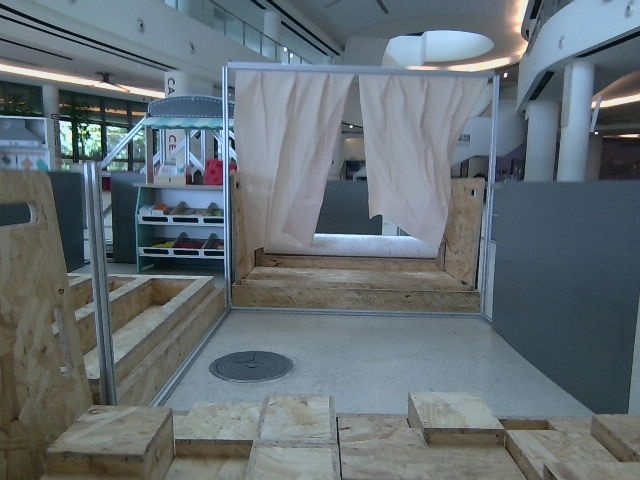curtain: (237, 58, 486, 240)
